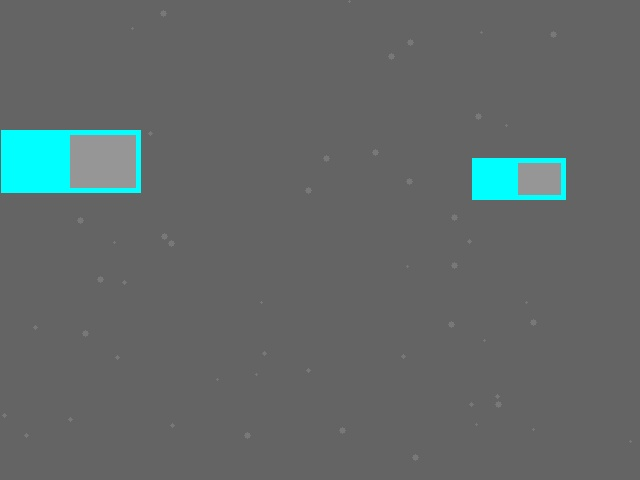truck: (1, 130, 140, 192), (472, 158, 565, 199)
